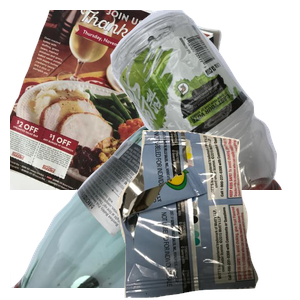glass: (10, 120, 224, 300)
paper: (10, 10, 224, 190)
plastic: (73, 10, 300, 190)
trash: (114, 130, 300, 300)
